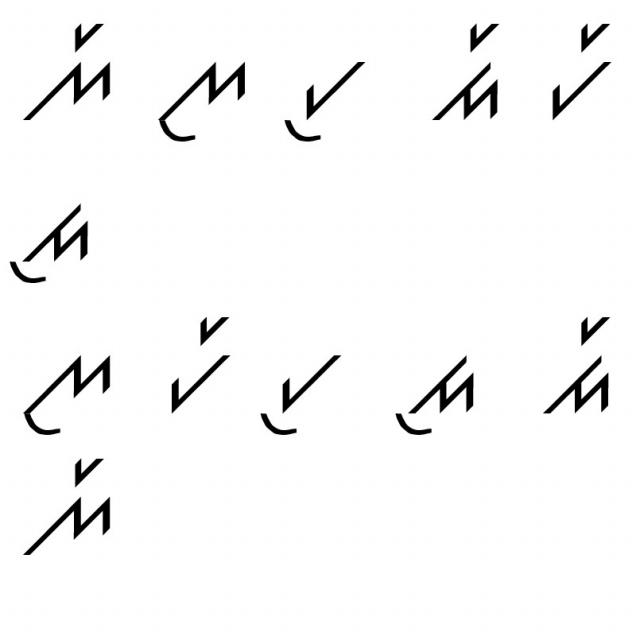dar: (426, 16, 510, 131), (542, 304, 622, 424)
daw: (386, 334, 484, 448), (2, 193, 96, 291)
nar: (22, 451, 128, 572), (20, 15, 117, 128)
naw: (9, 336, 117, 444), (148, 44, 250, 149)
par: (150, 294, 236, 418), (542, 16, 620, 128)
paw: (251, 339, 346, 443), (272, 53, 371, 149)
